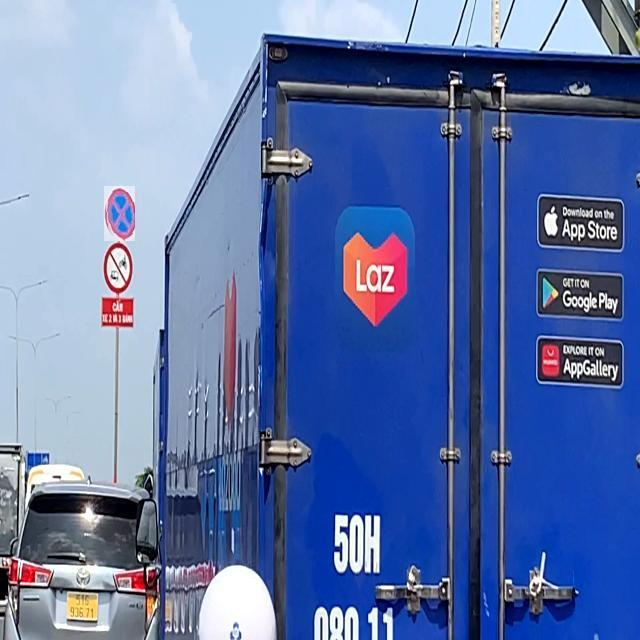P-130: (104, 186, 135, 241)
